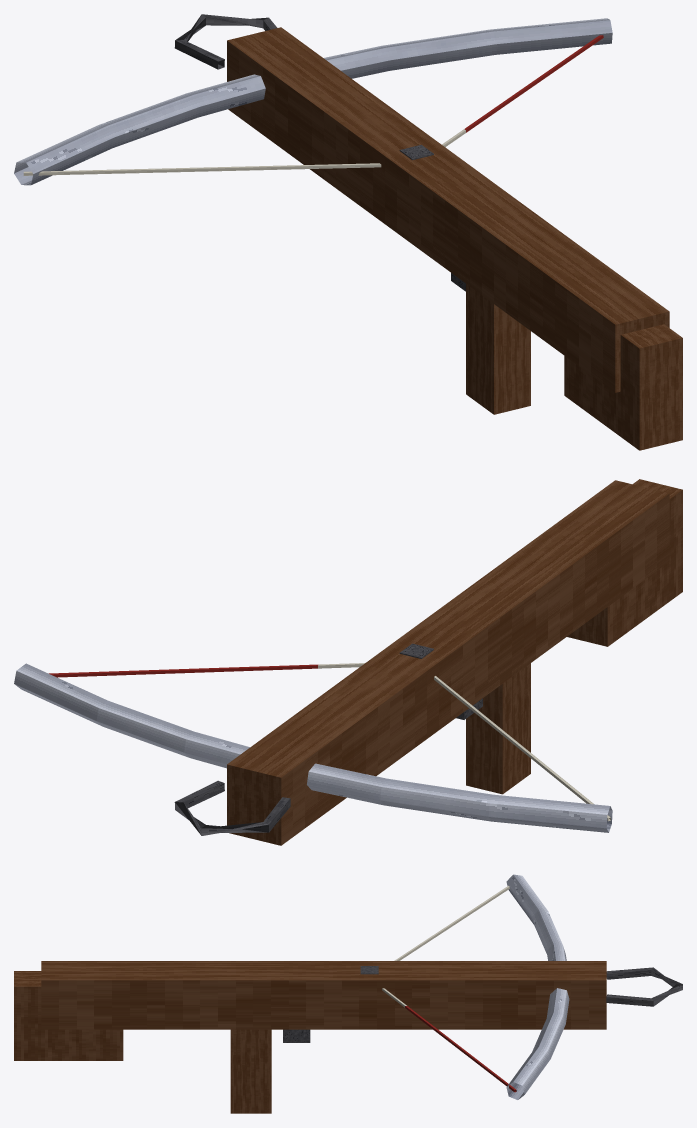
Rendered from crossbow.glb.
3 renders of one model, top to bottom at view 1: azimuth 30°, elevation 25°; view 2: azimuth 150°, elevation 25°; view 3: azimuth 270°, elevation 25°, orthographic. The views are drawn at different scales.
Visible parts, largest first — view 1: W_Crossbow; view 2: W_Crossbow; view 3: W_Crossbow.
Part boxes in pixels (<box>): W_Crossbow: <box>14,14,682,450</box>; W_Crossbow: <box>14,479,682,845</box>; W_Crossbow: <box>14,874,682,1113</box>.
Bounding box in the file's own units: 0.5462 × 0.166 × 0.7335.
Materials: 4 (4 with a texture image).
